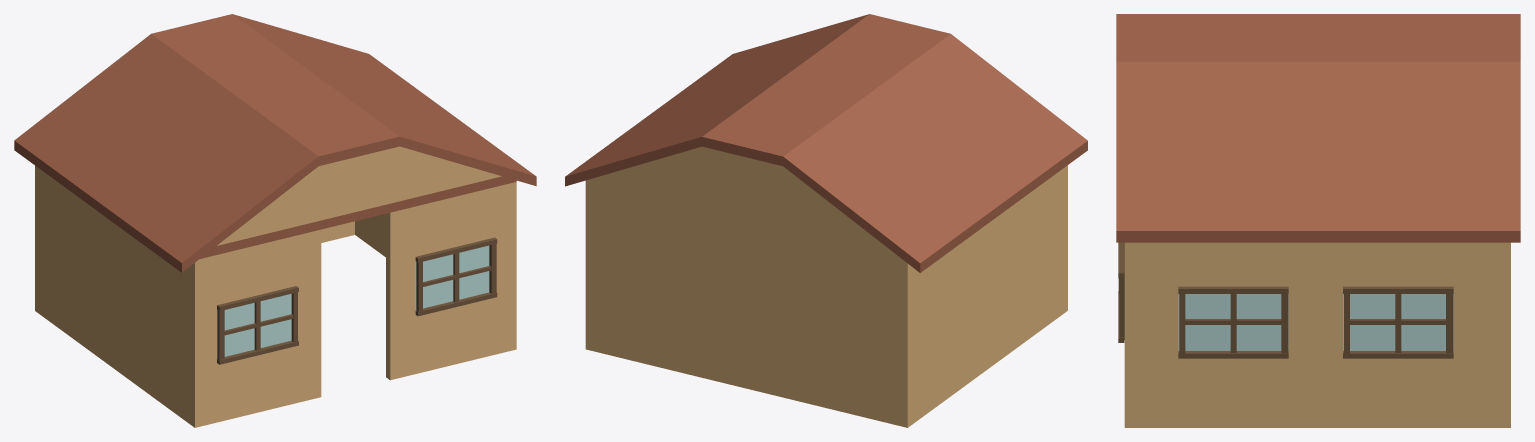
File: House_05.fbx
3 renders of one model, left to right at view 1: azimuth 30°, elevation 25°; view 2: azimuth 150°, elevation 25°; view 3: azimuth 270°, elevation 25°, orthographic. The views are drawn at different scales.
Visible parts, largest first — view 1: House; view 2: House; view 3: House.
Part boxes in pixels (<box>): House: <box>14,14,536,427</box>; House: <box>565,14,1087,427</box>; House: <box>1116,14,1520,427</box>.
Bounding box in the file's own units: 421 × 277 × 344.
